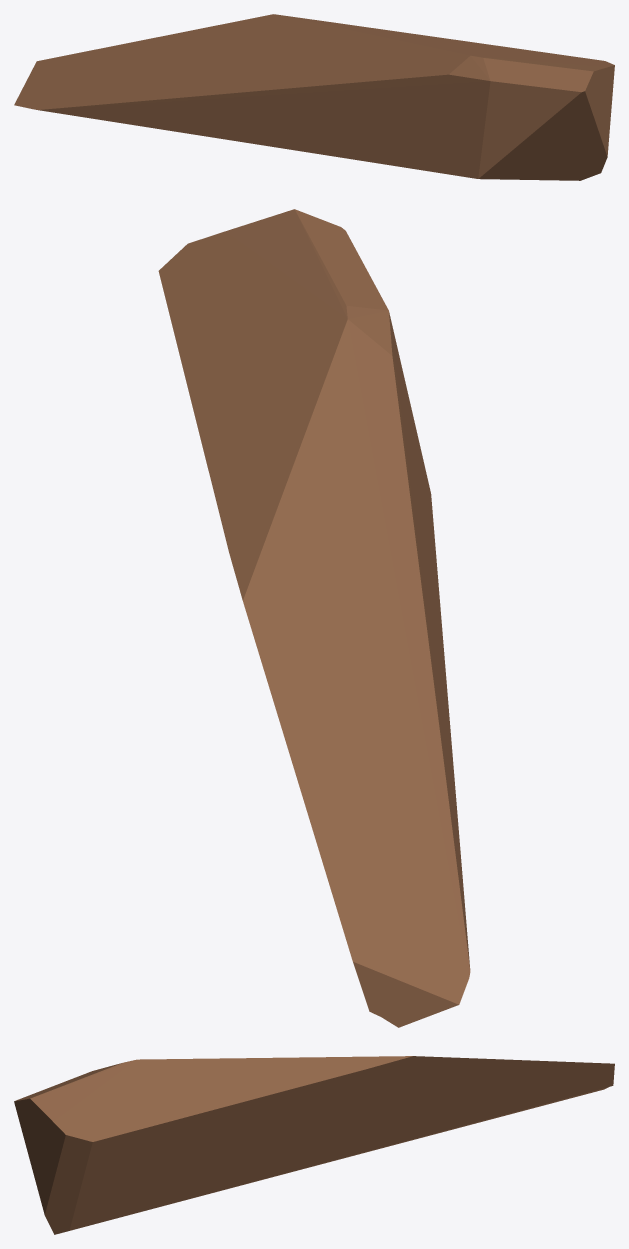
Rendered from WoodCellCube_003_cell_014.fbx.
The picture shows the model from 3 angles, top to bottom: view 1: azimuth 30°, elevation 25°; view 2: azimuth 150°, elevation 25°; view 3: azimuth 270°, elevation 25°; orthographic projection. The views are drawn at different scales.
Visible parts, largest first — view 1: WoodCellCube_003_cell_014; view 2: WoodCellCube_003_cell_014; view 3: WoodCellCube_003_cell_014.
Part boxes in pixels (x1=…): WoodCellCube_003_cell_014: x1=14, y1=14, x2=614, y2=180; WoodCellCube_003_cell_014: x1=158, y1=209, x2=470, y2=1027; WoodCellCube_003_cell_014: x1=14, y1=1056, x2=614, y2=1234.
Bounding box in the file's own units: 1.02 × 0.2968 × 0.8017.
Materials: 1 (1 with a texture image).
